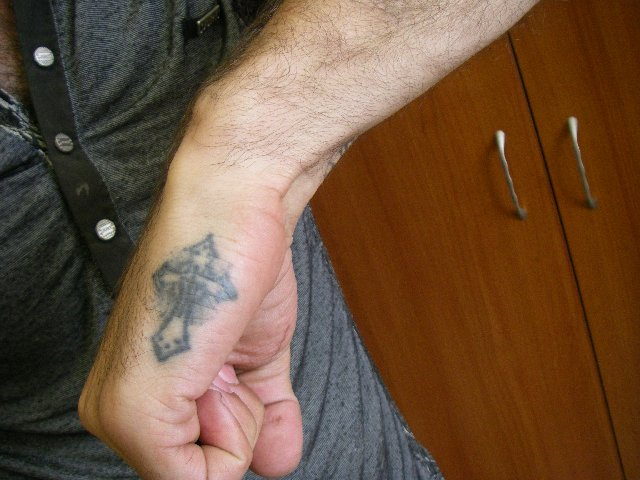tatu9_krest: (143, 225, 244, 371)
